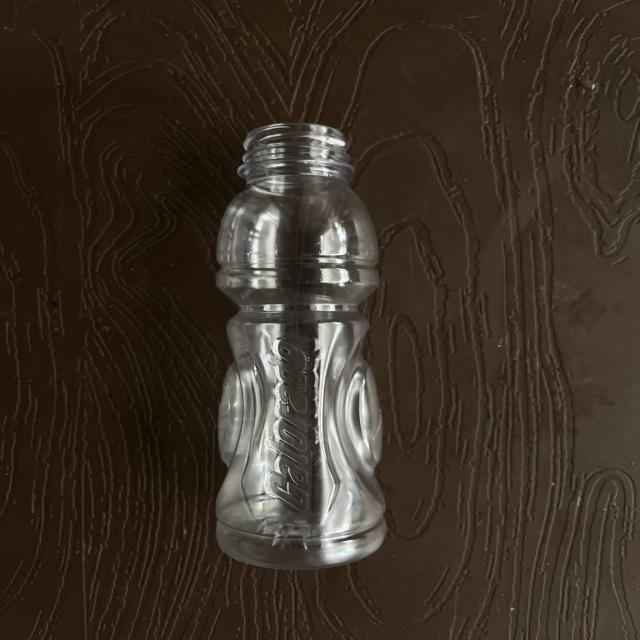PET_ClearBottle: (89, 120, 434, 577)
